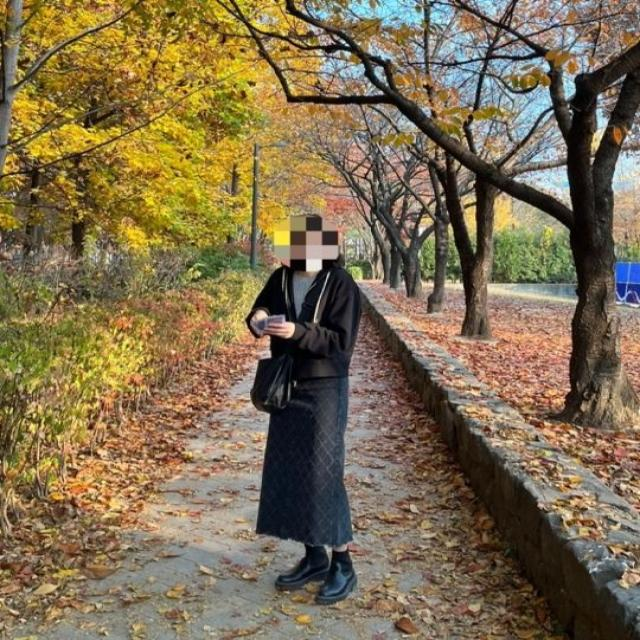skirt: (258, 378, 354, 548)
zipup: (246, 265, 360, 379)
